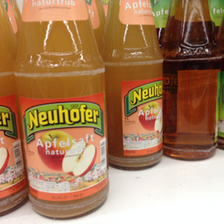juice: (13, 1, 108, 218), (102, 1, 166, 170), (159, 1, 222, 163)
